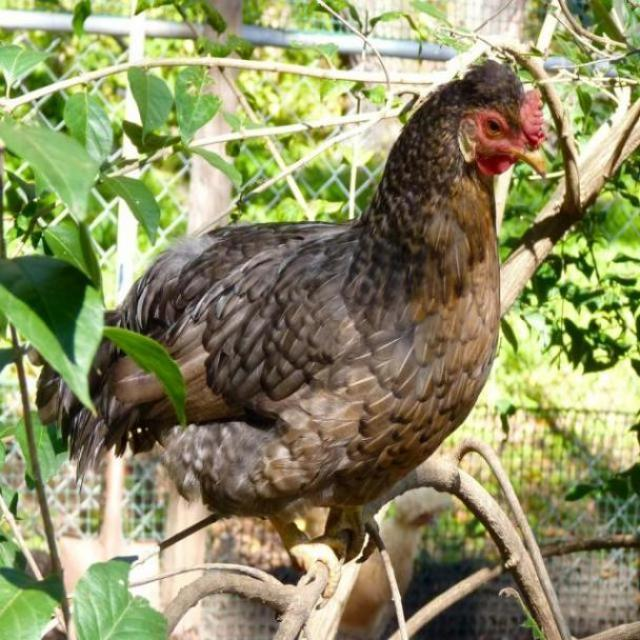Chicken: (122, 53, 549, 605)
